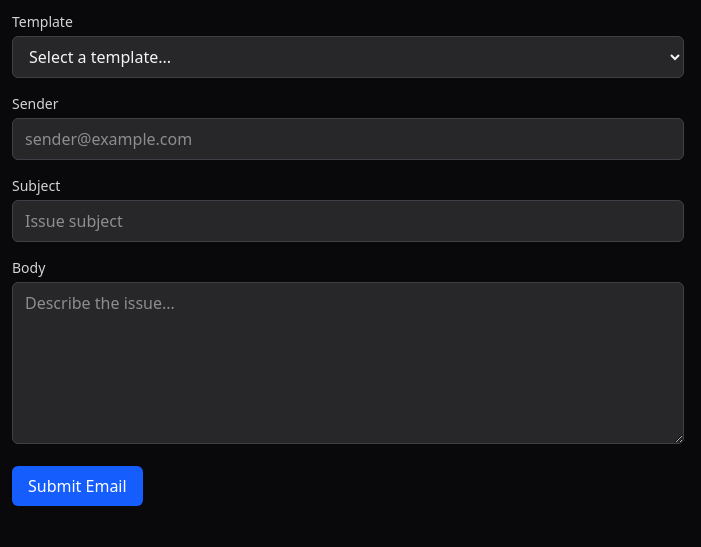
EmailComposer › Validation › shows error when subject is empty on submit
Type "Some body text" into the text box labelled "Body". click: (348, 363)
box: [12,282,684,444]
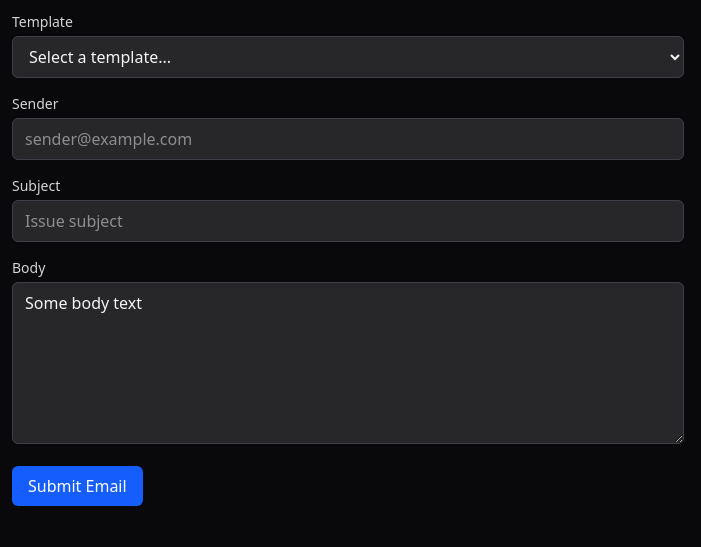
Click the button "Submit Email". click: (77, 486)
box: [12,466,143,506]
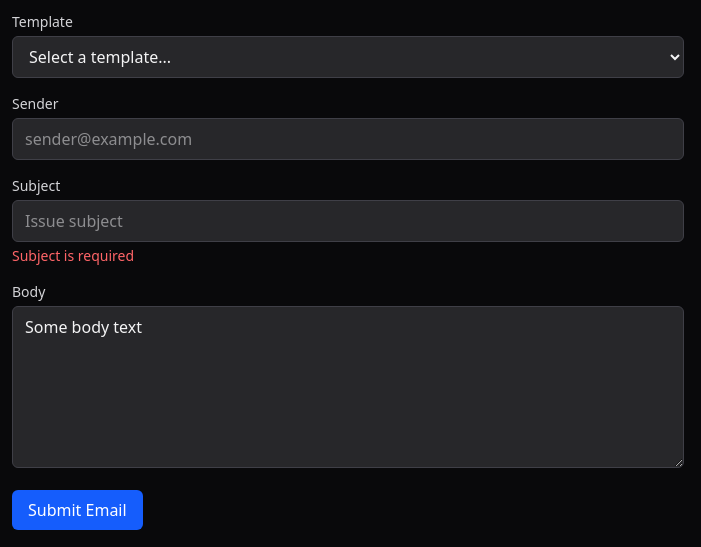
Now the text "Subject is required" is shown, box [12,246,134,265]
